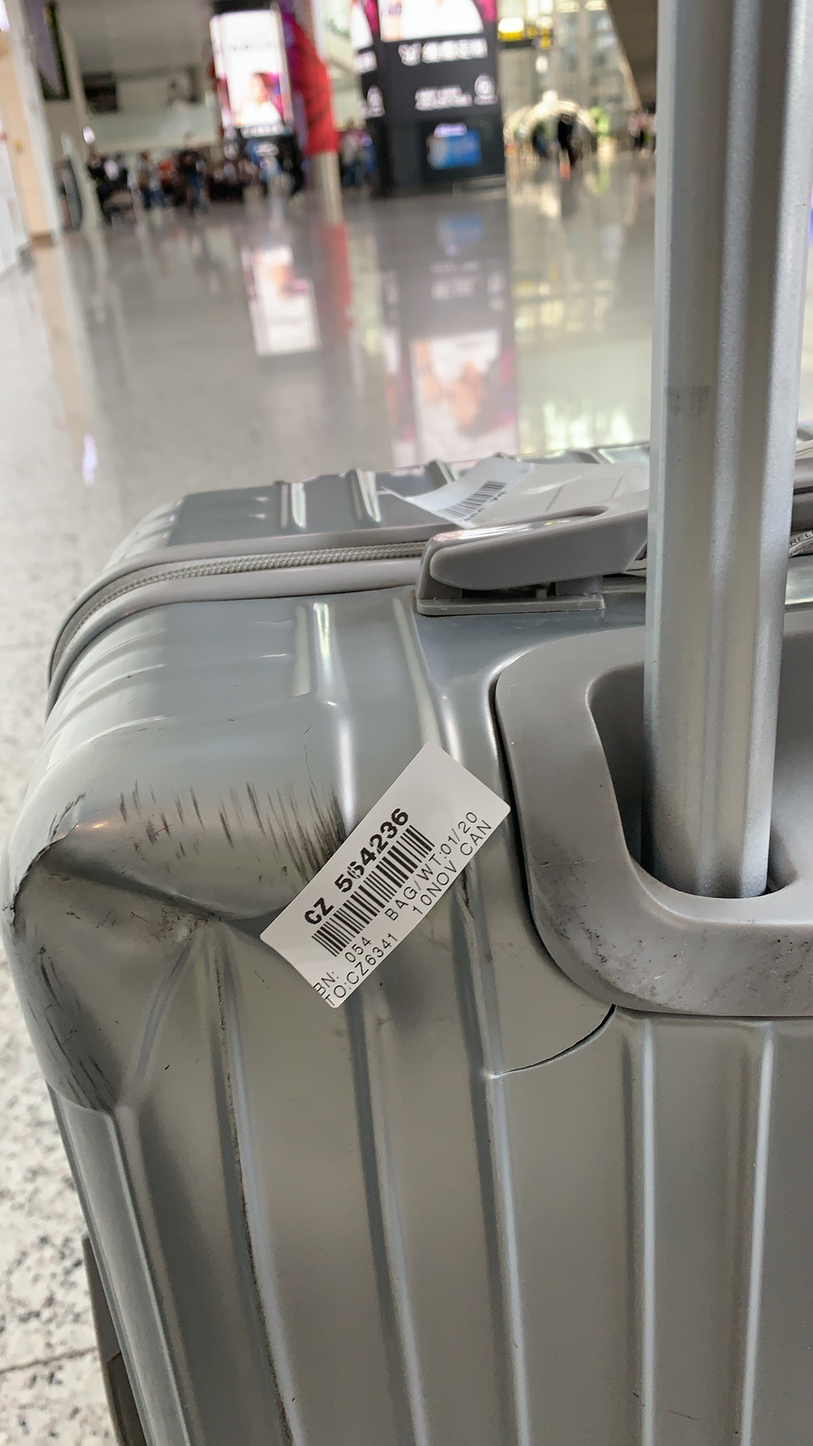rupture: (37, 815, 413, 1163)
scratch: (495, 1005, 615, 1078)
